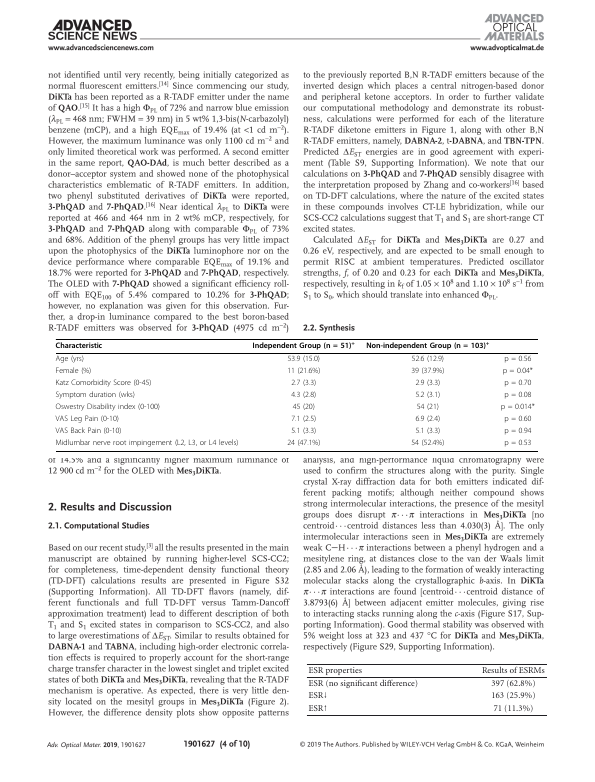borderless: (54, 338, 538, 451), (305, 662, 547, 715)
cell: (55, 439, 239, 448), (365, 340, 490, 351), (252, 340, 356, 351), (307, 679, 419, 689), (55, 403, 161, 413), (55, 379, 152, 389), (55, 391, 136, 401), (481, 666, 546, 676), (55, 427, 122, 436), (55, 415, 120, 424), (307, 666, 363, 676), (492, 703, 534, 714), (490, 679, 536, 689), (490, 691, 536, 701), (55, 342, 103, 351), (55, 367, 92, 377), (500, 403, 536, 413), (286, 355, 321, 365), (286, 367, 321, 377), (410, 367, 445, 377), (411, 355, 445, 365), (502, 367, 534, 377), (286, 439, 321, 448), (410, 439, 445, 448), (55, 355, 85, 365), (503, 355, 532, 365), (503, 379, 532, 389), (503, 391, 532, 401), (290, 379, 317, 389), (414, 379, 441, 389), (290, 391, 317, 401), (414, 391, 441, 401), (503, 415, 532, 424), (503, 427, 532, 436), (503, 439, 532, 448), (290, 415, 317, 424), (414, 415, 441, 424), (290, 427, 317, 436), (414, 427, 441, 436), (307, 703, 329, 714), (292, 403, 316, 413), (416, 403, 440, 413), (307, 691, 329, 701)
